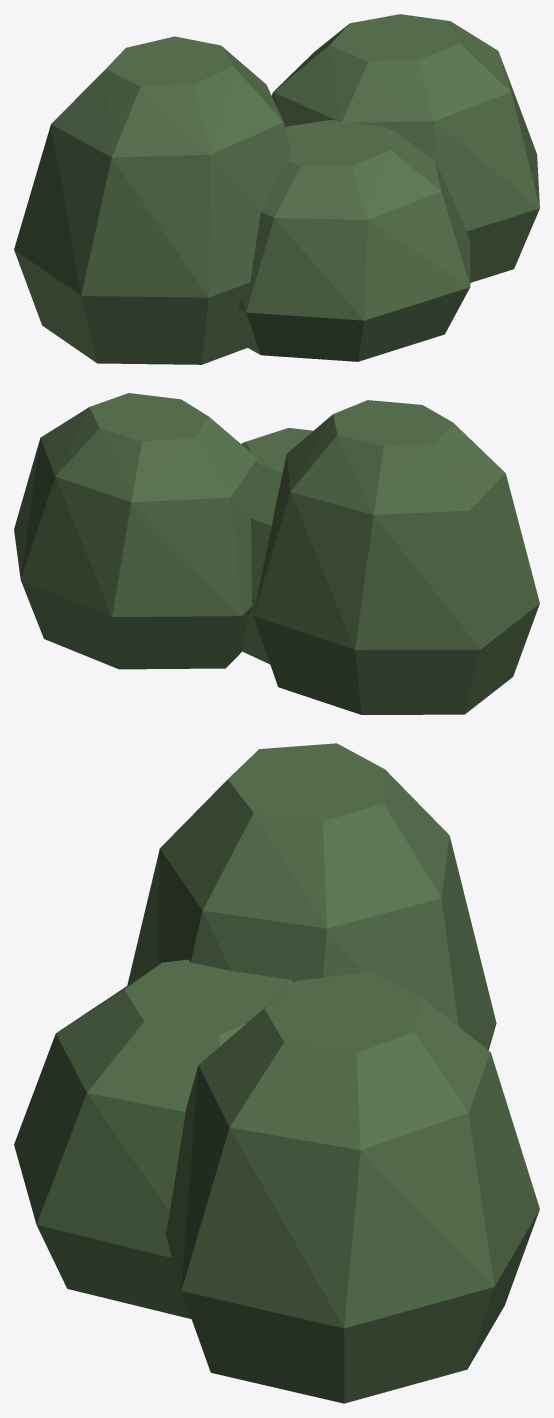
Rendered from bush.glb.
The picture shows the model from 3 angles, top to bottom: view 1: azimuth 30°, elevation 25°; view 2: azimuth 150°, elevation 25°; view 3: azimuth 270°, elevation 25°; orthographic projection. The views are drawn at different scales.
Visible parts, largest first — view 1: bush__body; view 2: bush__body; view 3: bush__body.
Part boxes in pixels (<box>): bush__body: <box>14,14,539,364</box>; bush__body: <box>14,393,539,714</box>; bush__body: <box>14,743,539,1403</box>.
Size of the model in its own units: 1.23 by 0.6 by 0.7689.
